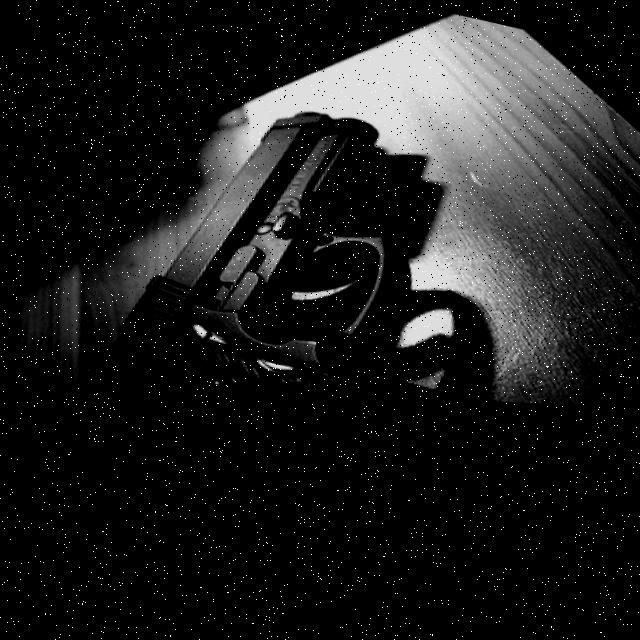pistol: (66, 64, 447, 464)
